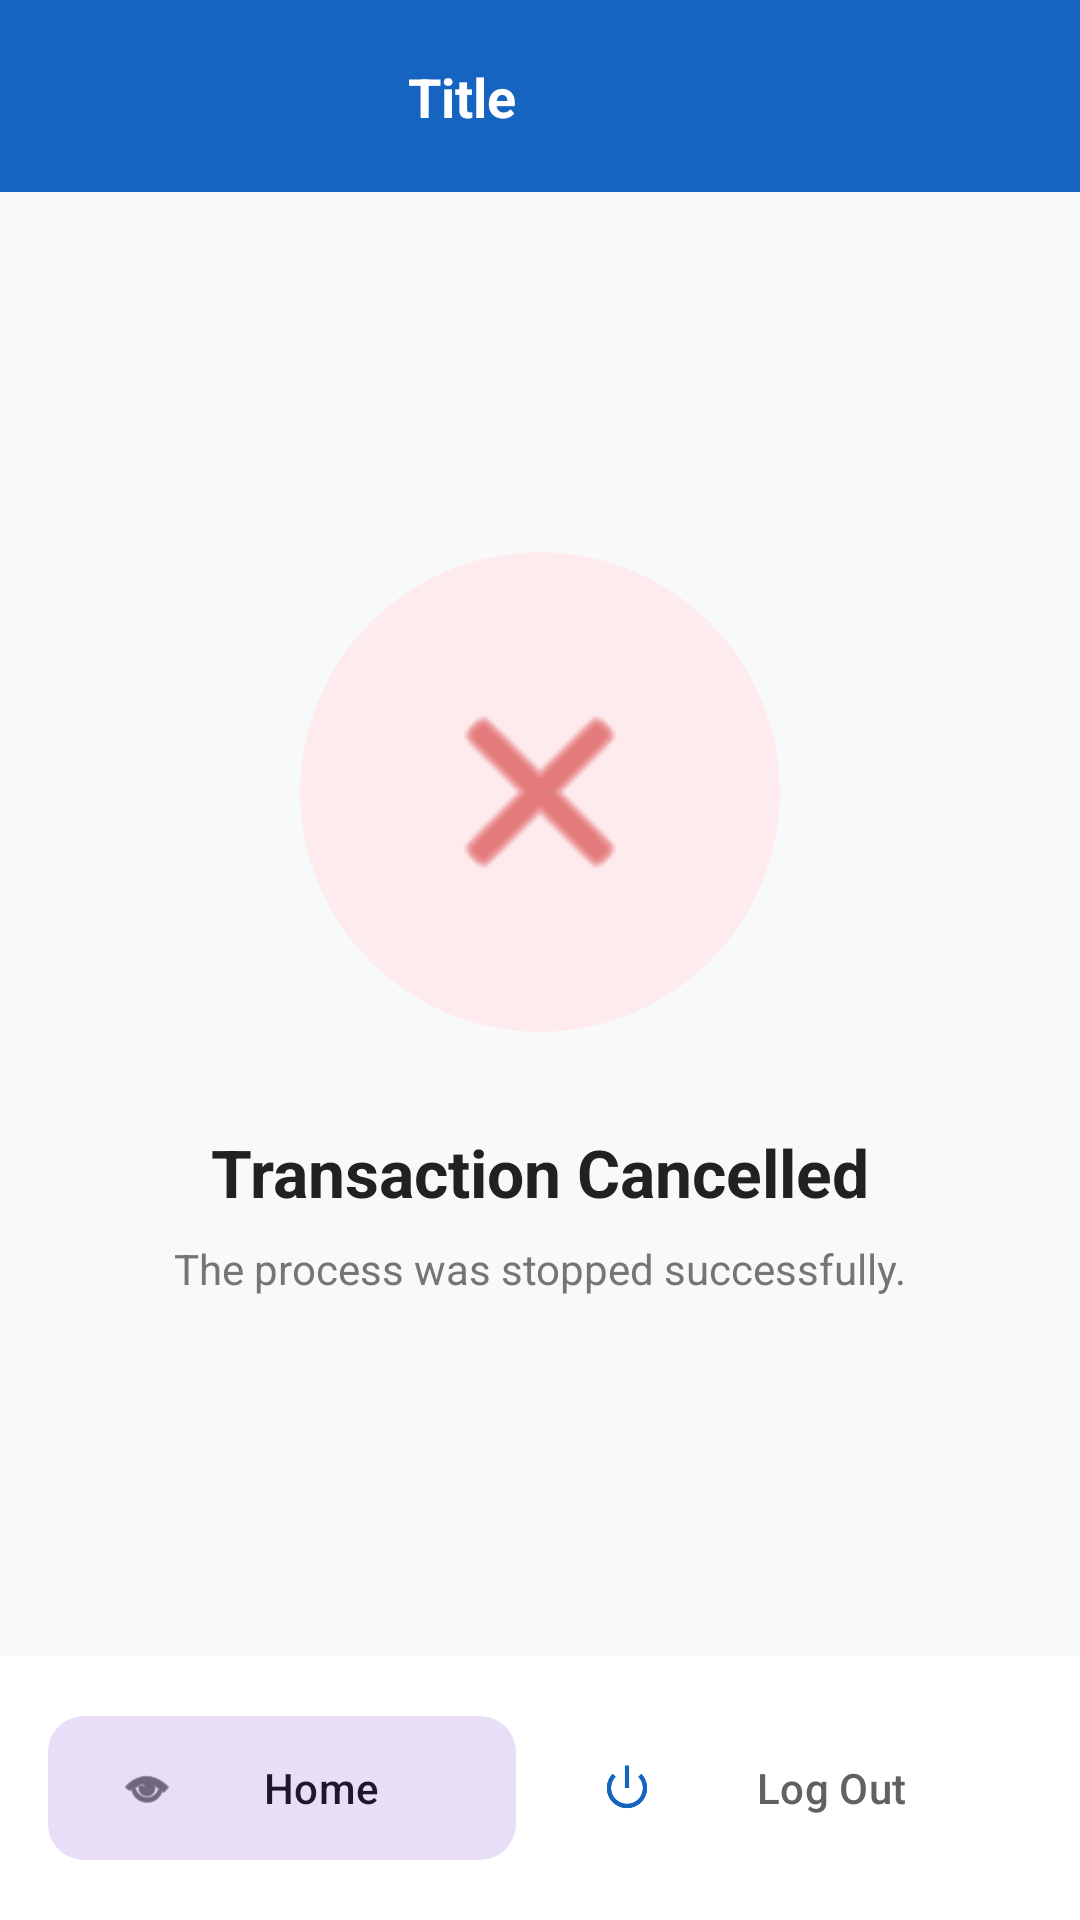

Screen size 1080w x 1920h. Icon name, then its center in pixels as point (x, y):
close clear cancel: point (540, 792)
